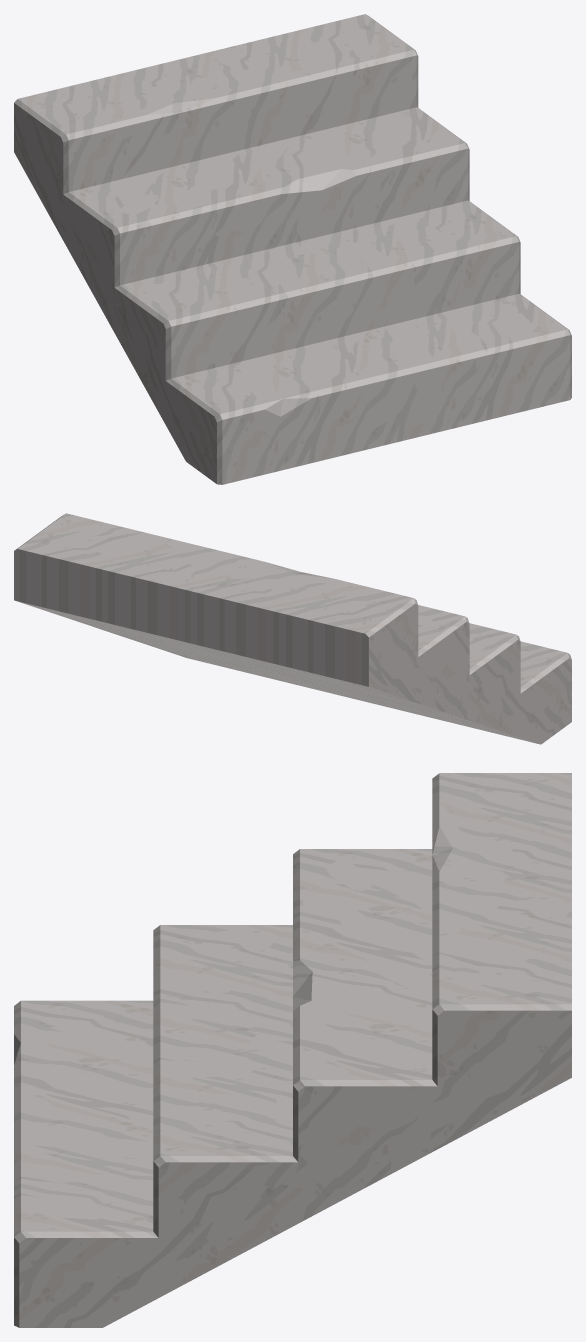
The model's file is SM_Bld_Step_01.fbx.
3 renders of one model, top to bottom at view 1: azimuth 30°, elevation 25°; view 2: azimuth 150°, elevation 25°; view 3: azimuth 270°, elevation 25°, orthographic. The views are drawn at different scales.
Parts seen in each view (by area): view 1: SM_Bld_Step_01; view 2: SM_Bld_Step_01; view 3: SM_Bld_Step_01.
Boxes of the visible parts, left/top/right/bottom form: SM_Bld_Step_01: left=14, top=14, right=571, bottom=484; SM_Bld_Step_01: left=14, top=513, right=571, bottom=744; SM_Bld_Step_01: left=14, top=773, right=571, bottom=1327.
Bounding box in the file's own units: 250 × 159 × 250.
